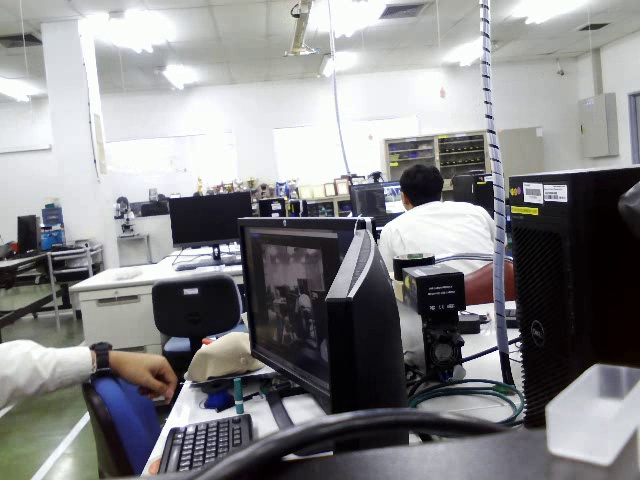aaa: (144, 255, 248, 346)
